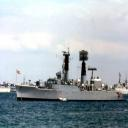Fragata: (15, 46, 127, 105)
